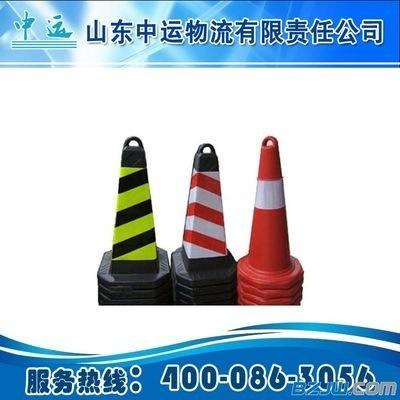cone_barrel: (235, 140, 302, 278), (102, 135, 164, 275), (174, 146, 235, 272)
